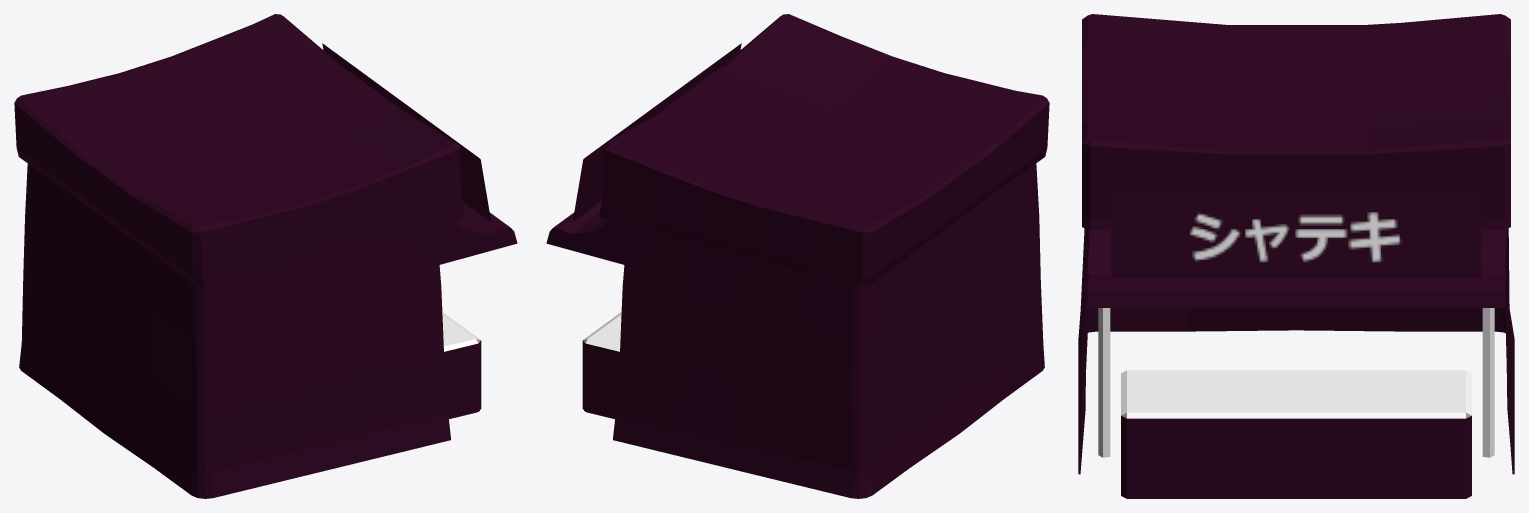
Rendered from rowyataisyateki_2.fbx.
3 renders of one model, left to right at view 1: azimuth 30°, elevation 25°; view 2: azimuth 150°, elevation 25°; view 3: azimuth 270°, elevation 25°, orthographic. The views are drawn at different scales.
Visible parts, largest first — view 1: 立方体, Cube, Cube.001, 立方体.001, 平面; view 2: 立方体, Cube, Cube.001, 立方体.001, 平面; view 3: Cube, 立方体.001, 平面, Cube.001, 立方体, 円柱.
Part boxes in pixels (x1=…): 立方体: x1=19, y1=163, x2=450, y2=498; Cube: x1=14, y1=14, x2=464, y2=286; Cube.001: x1=401, y1=201, x2=517, y2=267; 立方体.001: x1=442, y1=312, x2=481, y2=419; 平面: x1=322, y1=43, x2=491, y2=221; 立方体: x1=613, y1=163, x2=1044, y2=498; Cube: x1=599, y1=14, x2=1049, y2=286; Cube.001: x1=546, y1=201, x2=662, y2=270; 立方体.001: x1=582, y1=312, x2=621, y2=419; 平面: x1=572, y1=43, x2=741, y2=221; Cube: x1=1082, y1=14, x2=1510, y2=230; 立方体.001: x1=1121, y1=370, x2=1471, y2=498; 平面: x1=1111, y1=194, x2=1481, y2=277; Cube.001: x1=1088, y1=229, x2=1506, y2=307; 立方体: x1=1078, y1=228, x2=1514, y2=474; 円柱: x1=1098, y1=308, x2=1494, y2=457.
Bounding box in the file's own units: 133 × 114 × 132.
1 material, 1 textured.
